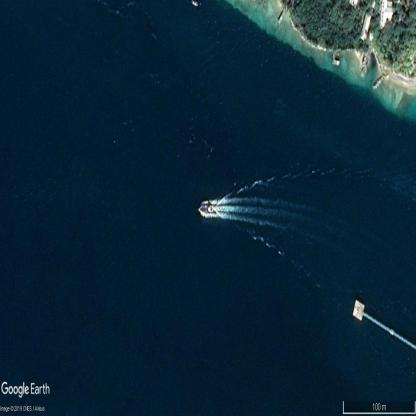ship: (199, 206, 217, 217), (192, 1, 198, 7)
